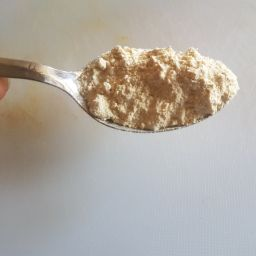Gram/ Flour: (82, 39, 242, 146), (122, 56, 215, 109)
